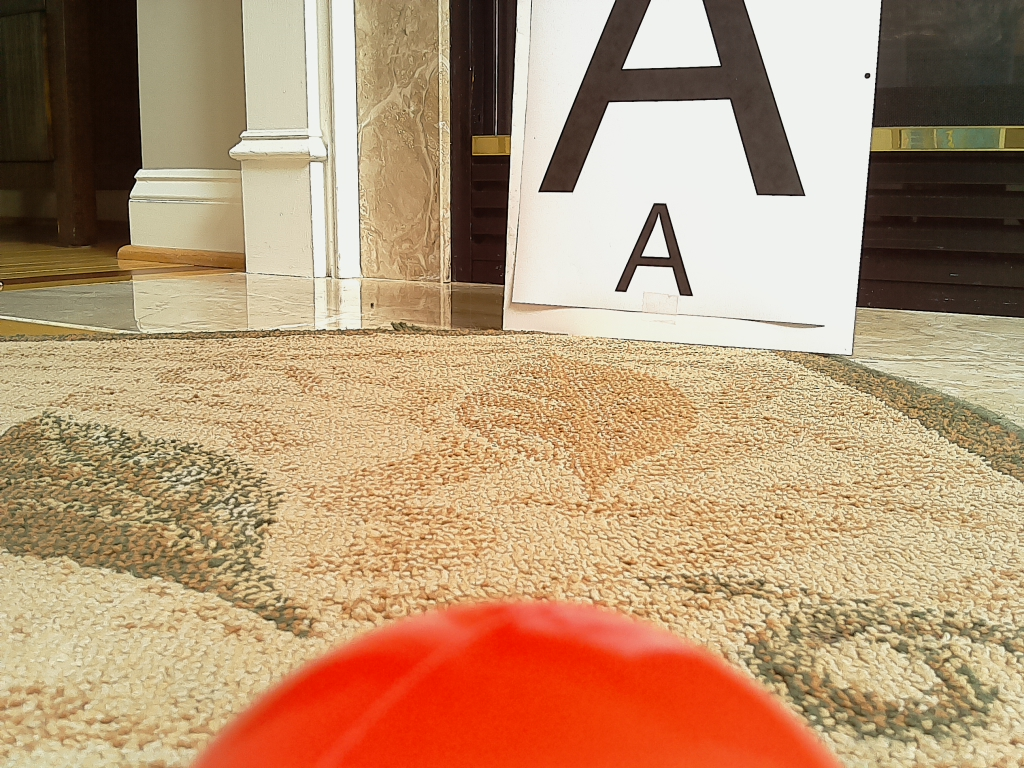letter: (613, 203, 702, 297)
